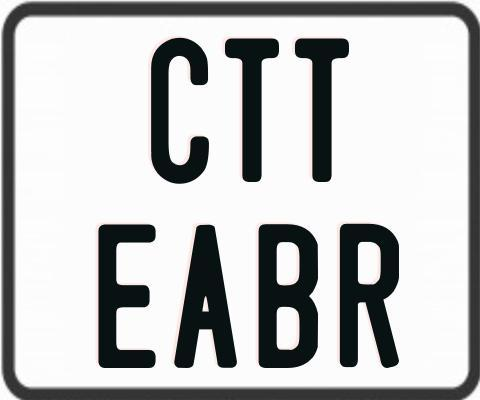A: (174, 222, 239, 367)
B: (259, 221, 320, 365)
C: (148, 37, 212, 188)
E: (98, 221, 158, 366)
R: (339, 221, 404, 369)
T: (295, 38, 353, 186), (225, 37, 282, 185)
